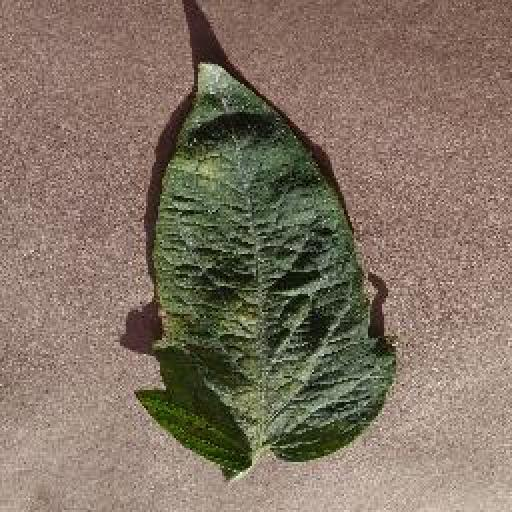disease_tomato: (134, 56, 402, 471)
